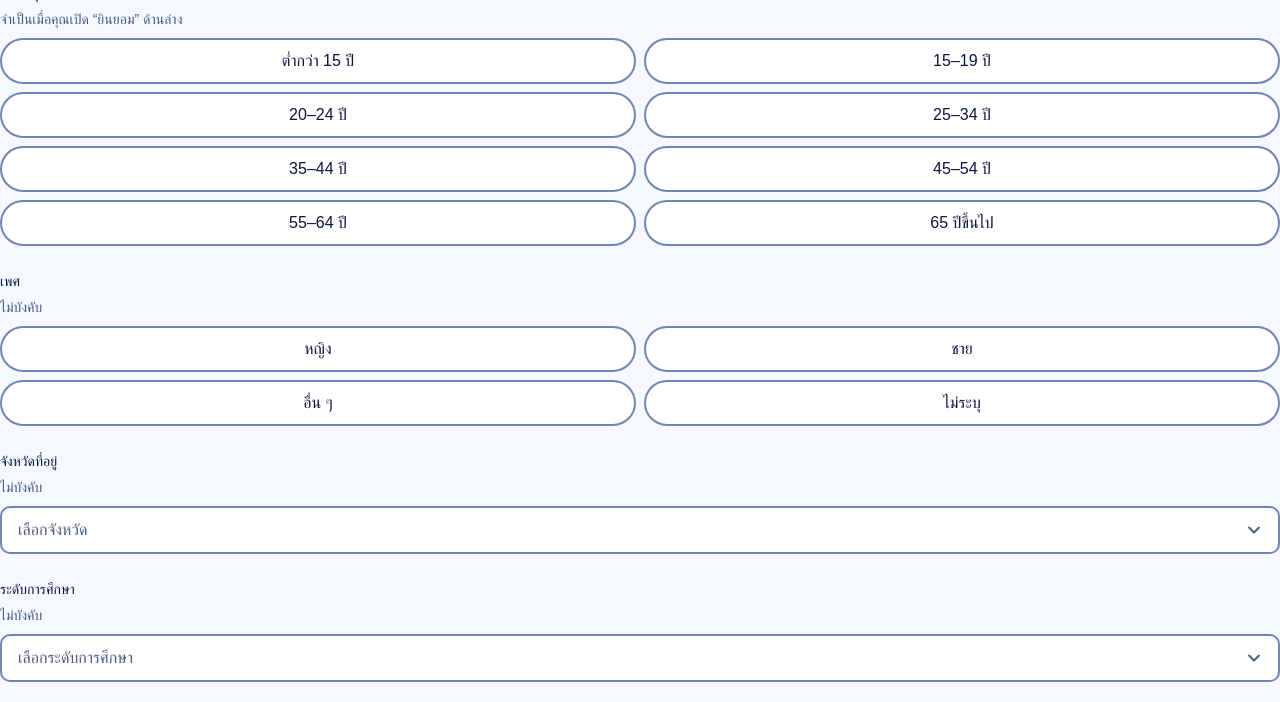
Scenario: explains, without sending, when this tab has no quiz session token
Click the radio button labelled "35–44 ปี" at x=318, y=169, box [0,146,636,192]
(page scrolled)
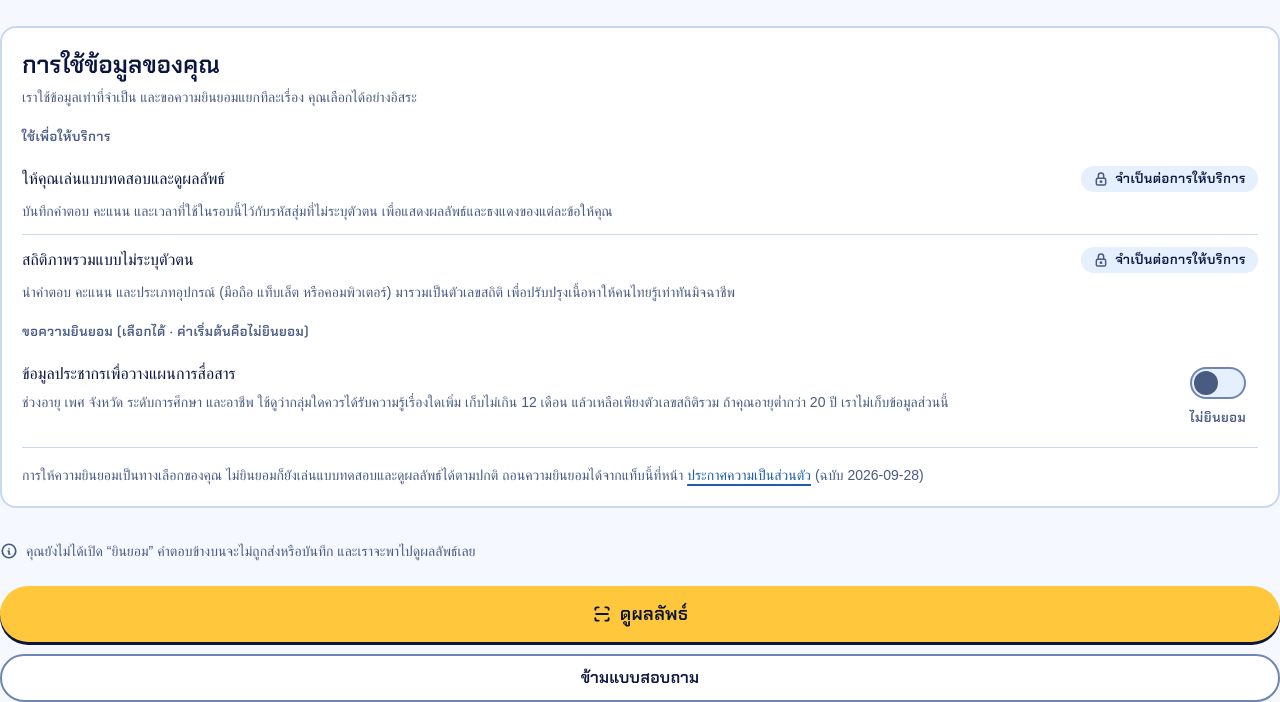
Click the switch labelled "ข้อมูลประชากรเพื่อวางแผนการสื่อสาร" at x=129, y=374, box [22,365,236,382]
(page scrolled)
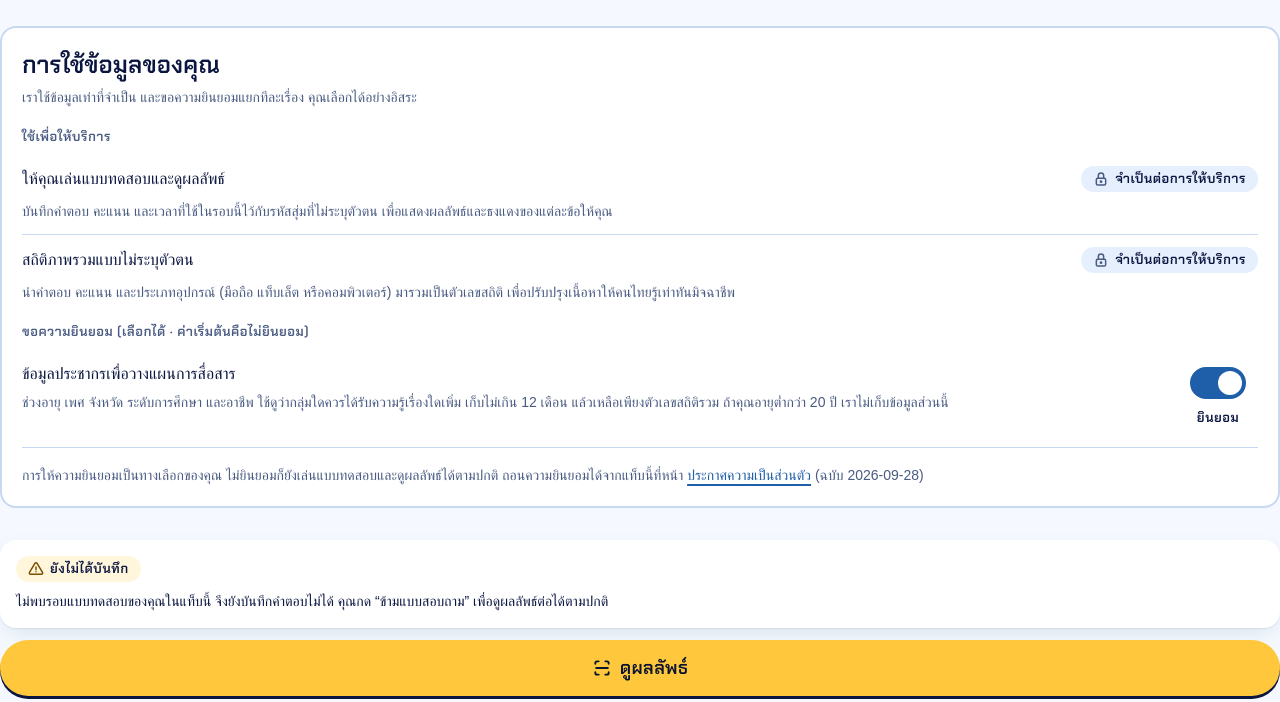
Expected: the message shows "ยังไม่ได้บันทึก", [50,560,129,577]
